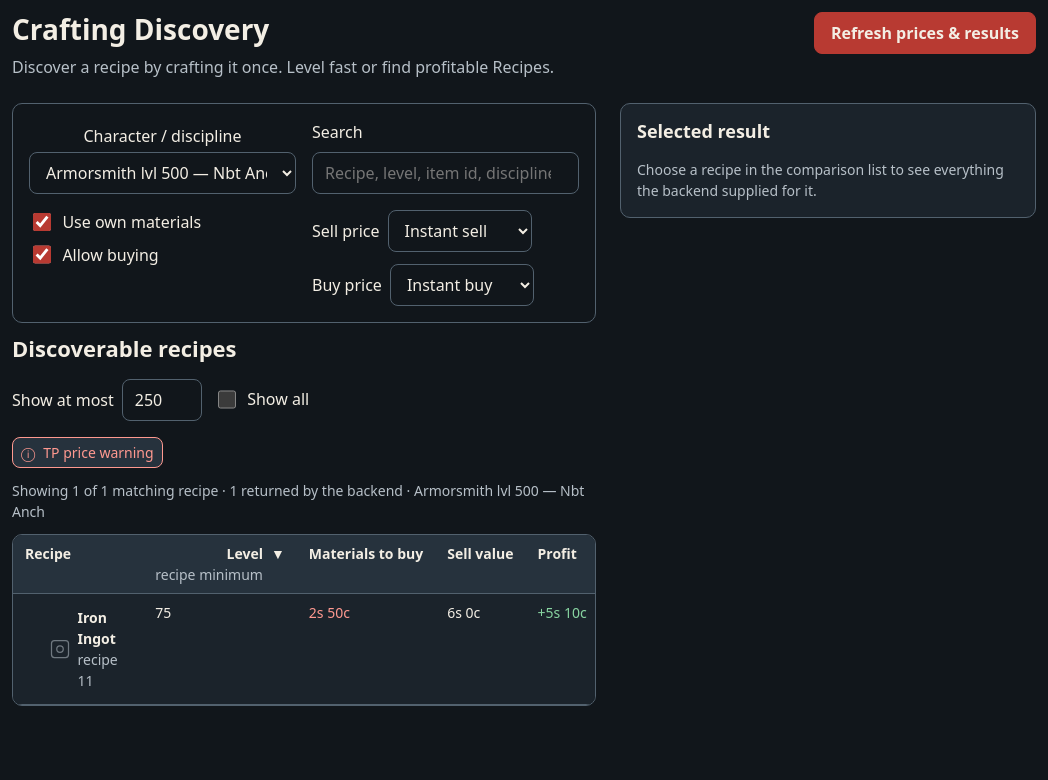
Test: CraftingDiscoveryScreen › has no cumulative budget or craft-count presentation and retains one-craft finances
The width and height of the screenshot is (1048, 780).
Click the button with test id "discovery-select-row" at (78, 648), box [25,602,131,696]
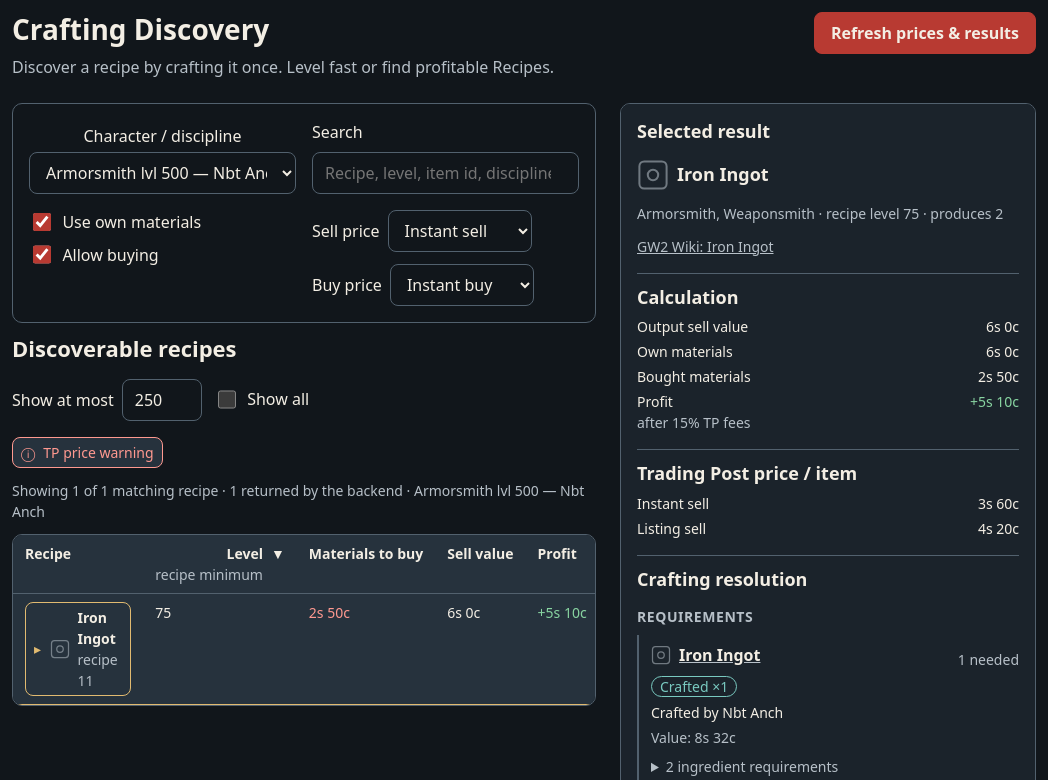
Result: the element with test id "discovery-detail-calculation" is shown at [637,316,1019,433]
Result: the text with test id "discovery-detail-output-revenue" reads "6s 0c" at [986,317,1019,336]
Result: the text with test id "discovery-detail-profit" is shown at [970,392,1019,411]
